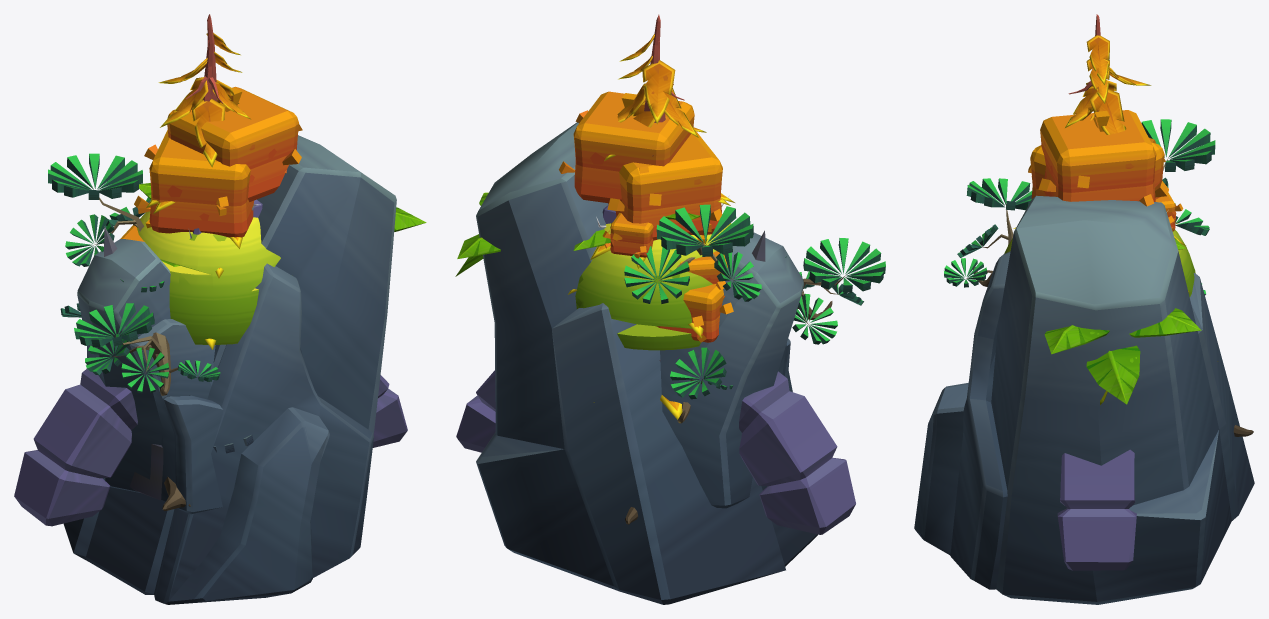
3 views of the same model, side by side, from view 1: azimuth 30°, elevation 25°; view 2: azimuth 150°, elevation 25°; view 3: azimuth 270°, elevation 25° (orthographic).
Visible parts, largest first — view 1: rock_big_3, rock_big_1, arch.001, ancient_tree_1.001, garden_tree_green, birch1, birch3, pine2, pine3, rock_big_B_gray_1; view 2: rock_big_3, rock_big_1, arch.001, ancient_tree_1.001, birch3, birch1, garden_tree_green, pine2, pine3, coconut2; view 3: rock_big_3, birch3, arch.001, ancient_tree_1.001, coconut2, pine2, pine3, birch1, garden_tree_green.
Boxes of the visible parts, x1,y1,x2,y2 form: rock_big_3: (63, 135, 396, 604); rock_big_1: (77, 239, 223, 514); arch.001: (14, 369, 407, 526); ancient_tree_1.001: (48, 153, 220, 510); garden_tree_green: (137, 211, 280, 344); birch1: (134, 130, 254, 238); birch3: (120, 86, 302, 241); pine2: (146, 14, 240, 349); pine3: (153, 39, 250, 278); rock_big_B_gray_1: (129, 444, 163, 500); rock_big_3: (476, 122, 817, 604); rock_big_1: (660, 232, 803, 508); arch.001: (456, 370, 855, 534); ancient_tree_1.001: (624, 204, 885, 524); birch3: (559, 91, 727, 300); birch1: (607, 131, 733, 342); garden_tree_green: (575, 223, 731, 350); pine2: (590, 14, 730, 402); pine3: (568, 40, 734, 422); coconut2: (455, 192, 500, 276); rock_big_3: (914, 195, 1254, 604); birch3: (1038, 110, 1183, 231); arch.001: (1057, 449, 1136, 570); ancient_tree_1.001: (944, 119, 1253, 436); coconut2: (1044, 308, 1201, 404); pine2: (1080, 14, 1217, 361); pine3: (1013, 59, 1190, 292); birch1: (1028, 142, 1168, 199); garden_tree_green: (1004, 229, 1195, 296).
Bounding box in the file's own units: 8.52 × 11.7 × 6.59.
Materials: 2 (2 with a texture image).
